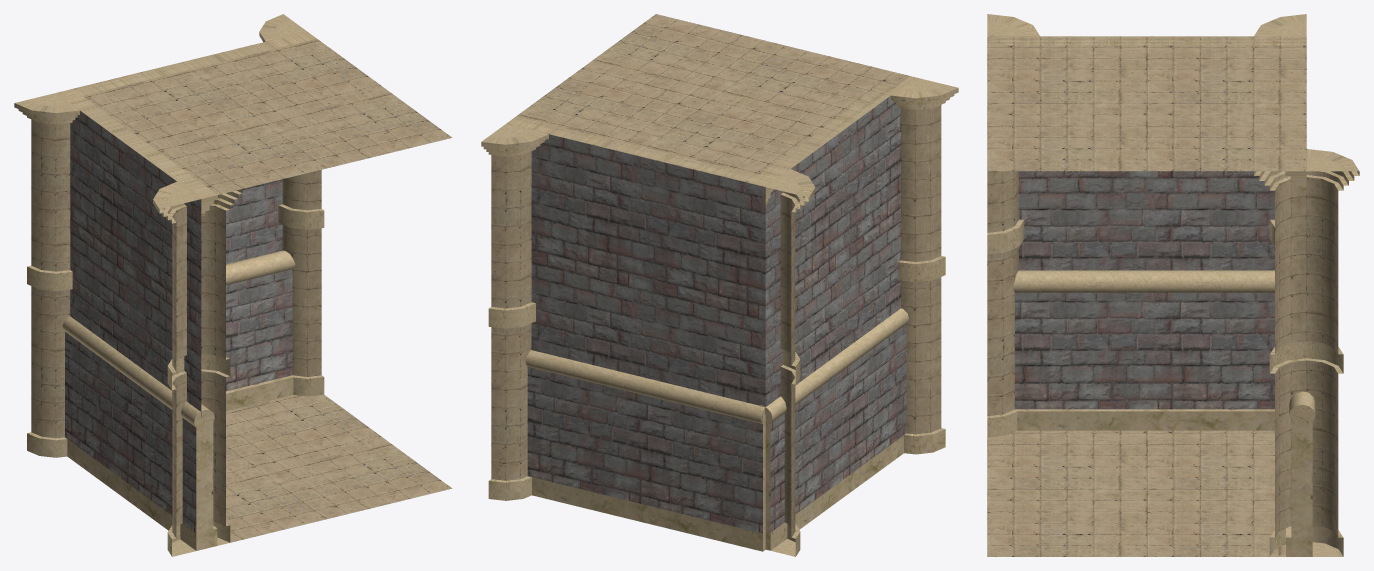
Rendered from WallInnerCorner.obj.
The picture shows the model from 3 angles, left to right: view 1: azimuth 30°, elevation 25°; view 2: azimuth 150°, elevation 25°; view 3: azimuth 270°, elevation 25°; orthographic projection. The views are drawn at different scales.
Visible parts, largest first — view 1: Object16, Box06, Object13, Object15, Cylinder09, Cylinder11, Object19, Cylinder13, Box08, Object17, Object18, Box07 (+5 smaller); view 2: Box06, Object16, Object19, Object15, Cylinder13, Cylinder11, Box09, Cylinder09, Cylinder12, Object20, Object18, Box08 (+4 smaller); view 3: Object16, Object13, Object15, Box06, Cylinder13, Cylinder11, Cylinder10, Box08, Object20, Box09, Object18, Box07 (+3 smaller).
Boxes of the visible parts, x1,y1,x2,y2 form: Object16: (58, 32, 451, 198); Box06: (70, 110, 282, 417); Object13: (226, 394, 451, 542); Object15: (65, 332, 212, 532); Cylinder09: (31, 119, 70, 438); Cylinder11: (172, 205, 225, 537); Object19: (226, 269, 292, 391); Cylinder13: (282, 170, 321, 376); Box08: (67, 415, 217, 550); Object17: (14, 93, 79, 457); Object18: (153, 181, 242, 556); Box07: (56, 89, 217, 216); Box06: (531, 96, 900, 406); Object16: (507, 14, 913, 186); Object19: (527, 367, 764, 533); Object15: (770, 324, 906, 532); Cylinder13: (491, 151, 531, 480); Cylinder11: (901, 105, 941, 434); Box09: (532, 414, 765, 551); Cylinder09: (780, 194, 795, 537); Cylinder12: (525, 350, 764, 423); Object20: (481, 124, 548, 500); Object18: (891, 77, 958, 454); Box08: (765, 423, 903, 550); Object16: (987, 36, 1306, 171); Object13: (987, 430, 1285, 556); Object15: (1015, 292, 1274, 409); Box06: (1019, 171, 1274, 270); Cylinder13: (1275, 177, 1338, 537); Cylinder11: (987, 171, 1018, 415); Cylinder10: (1013, 270, 1274, 292); Box08: (1012, 409, 1274, 430); Object20: (1254, 149, 1359, 556); Box09: (1286, 421, 1312, 556); Object18: (987, 14, 1039, 437); Box07: (987, 36, 1306, 45).
Size of the model in its own units: 3.5 by 4 by 3.5.
Materials: 3 (3 with a texture image).
